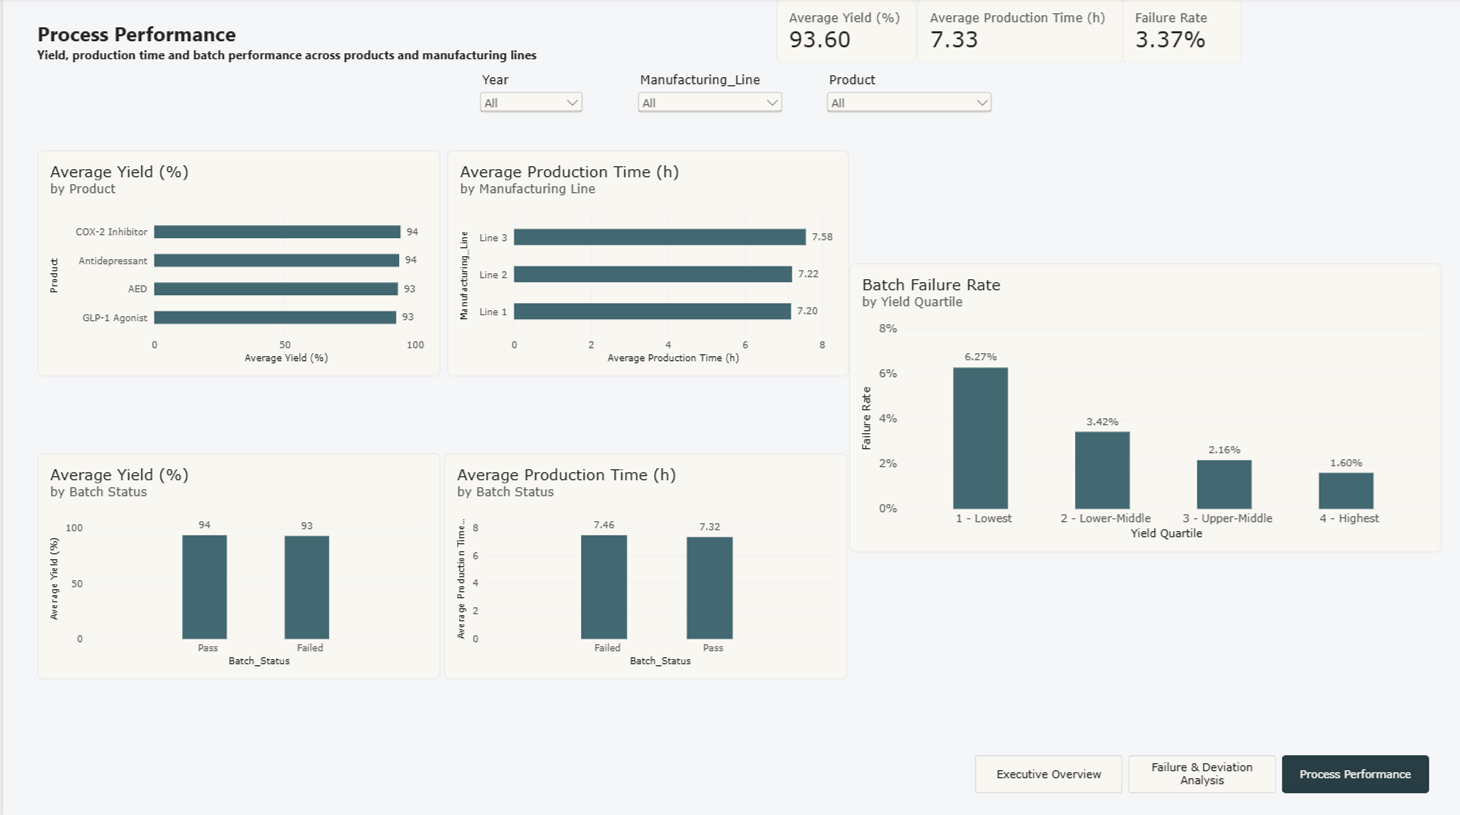

This screenshot's page, from the dashboard's own definition file:
{"tool":"powerbi","page":{"name":"Process Performance","canvas":[1920,1080],"ordinal":2},"visuals":[{"type":"textbox","box":[44.6,27.6,669.7,80.8],"z":0},{"type":"cardVisual","fields":{"Data":["pharma_manufacturing_cleaned csv.Average Yield (%)"]},"box":[1018.3,0,185,85],"z":1000},{"type":"cardVisual","fields":{"Data":["pharma_manufacturing_cleaned csv.Average Production Time (h)"]},"box":[1203.3,0,272.1,85],"z":2000},{"type":"cardVisual","fields":{"Data":["pharma_manufacturing_cleaned csv.Failure Rate"]},"box":[1473.3,0,157.3,85],"z":3000},{"type":"clusteredBarChart","title":"Average Yield (%)","fields":{"Category":["pharma_manufacturing_cleaned csv.Product"],"Y":["pharma_manufacturing_cleaned csv.Average Yield (%)"]},"box":[44.6,199.8,531.5,297.6],"z":4000},{"type":"clusteredBarChart","title":"Average Production Time (h)","fields":{"Category":["pharma_manufacturing_cleaned csv.Manufacturing_Line"],"Y":["pharma_manufacturing_cleaned csv.Average Production Time (h)"]},"box":[584.6,199.8,529.4,297.6],"z":5000},{"type":"clusteredColumnChart","title":"Average Yield (%)","fields":{"Category":["pharma_manufacturing_cleaned csv.Batch_Status"],"Y":["pharma_manufacturing_cleaned csv.Average Yield (%)"]},"box":[44.6,599.5,531.5,297.6],"z":6000},{"type":"clusteredColumnChart","title":"Average Production Time (h) ","fields":{"Category":["pharma_manufacturing_cleaned csv.Batch_Status"],"Y":["pharma_manufacturing_cleaned csv.Average Production Time (h)"]},"box":[580.4,599.5,531.5,297.6],"z":7000},{"type":"clusteredColumnChart","title":"Batch Failure Rate","fields":{"Category":["pharma_manufacturing_cleaned csv.Yield Quartile"],"Y":["pharma_manufacturing_cleaned csv.Failure Rate"]},"box":[1114,348.7,780.2,380.6],"z":8000},{"type":"slicer","fields":{"Values":["Date.Year"]},"box":[622.9,97.8,144.6,68],"z":9000},{"type":"slicer","fields":{"Values":["pharma_manufacturing_cleaned csv.Manufacturing_Line"]},"box":[831.3,97.8,199.8,70.2],"z":10000},{"type":"slicer","fields":{"Values":["pharma_manufacturing_cleaned csv.Product"]},"box":[1080,97.8,227.5,70.2],"z":11000},{"type":"pageNavigator","box":[1279.8,997.1,600,50],"z":11001}]}

Visuals, with their boxes in screenshot pixels (x1, y1, x2, y2), scaled from the page's 1920x1080 canvas onto the 1460x815 screenshot:
textbox: bbox=[34, 21, 543, 82]
cardVisual - pharma_manufacturing_cleaned csv.Average Yield (%): bbox=[774, 0, 915, 64]
cardVisual - pharma_manufacturing_cleaned csv.Average Production Time (h): bbox=[915, 0, 1122, 64]
cardVisual - pharma_manufacturing_cleaned csv.Failure Rate: bbox=[1120, 0, 1240, 64]
"Average Yield (%)" clusteredBarChart: bbox=[34, 151, 438, 375]
"Average Production Time (h)" clusteredBarChart: bbox=[445, 151, 847, 375]
"Average Yield (%)" clusteredColumnChart: bbox=[34, 452, 438, 677]
"Average Production Time (h) " clusteredColumnChart: bbox=[441, 452, 846, 677]
"Batch Failure Rate" clusteredColumnChart: bbox=[847, 263, 1440, 550]
slicer - Date.Year: bbox=[474, 74, 584, 125]
slicer - pharma_manufacturing_cleaned csv.Manufacturing_Line: bbox=[632, 74, 784, 127]
slicer - pharma_manufacturing_cleaned csv.Product: bbox=[821, 74, 994, 127]
pageNavigator: bbox=[973, 752, 1429, 790]
